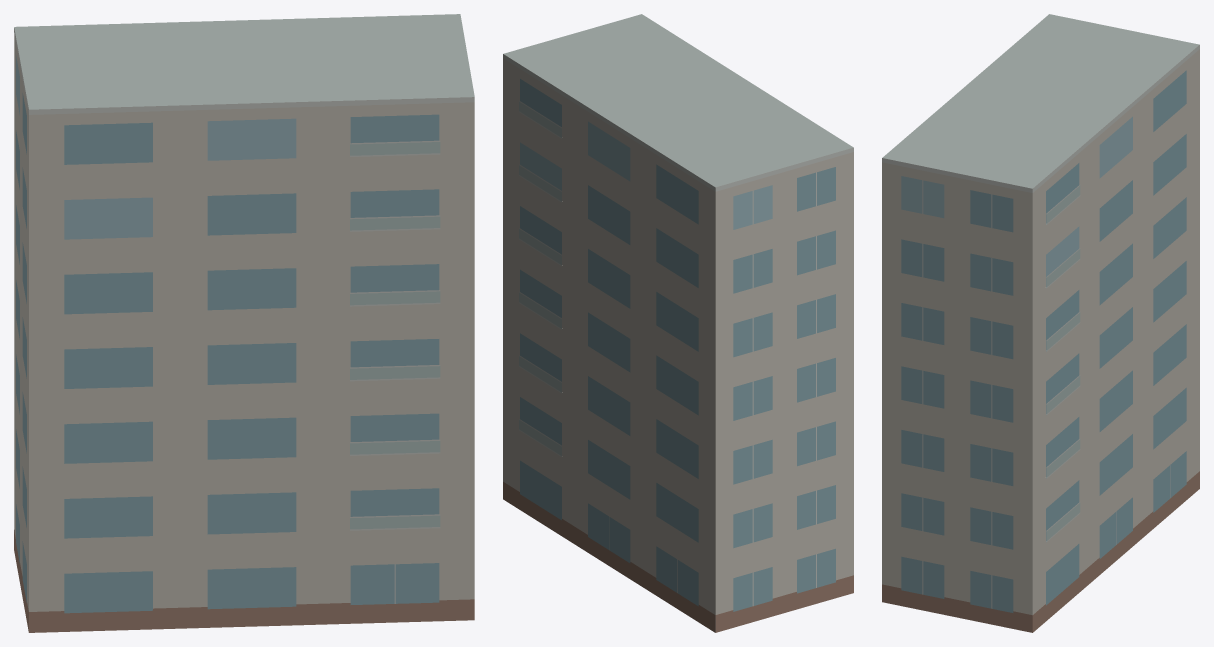
File: survey-upis-33008925.glb
3 renders of one model, left to right at view 1: azimuth 30°, elevation 25°; view 2: azimuth 150°, elevation 25°; view 3: azimuth 270°, elevation 25°, orthographic. The views are drawn at different scales.
Visible parts, largest first — view 1: survey-upis-33008925.tmp; view 2: survey-upis-33008925.tmp; view 3: survey-upis-33008925.tmp.
Part boxes in pixels (x1,y1,x2,y2): survey-upis-33008925.tmp: (14,14,474,632); survey-upis-33008925.tmp: (503,14,853,632); survey-upis-33008925.tmp: (882,14,1199,632).
Size of the model in its own units: 20.85 by 24.7 by 16.02.
